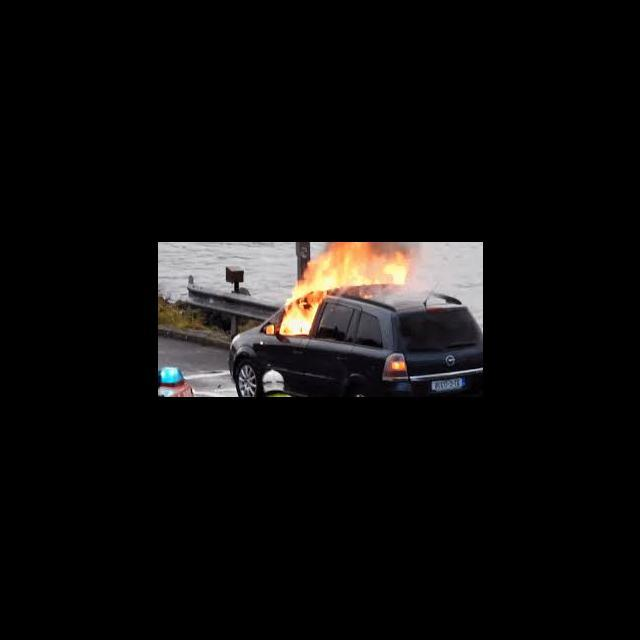Fire: (284, 243, 416, 304), (277, 304, 319, 338)
